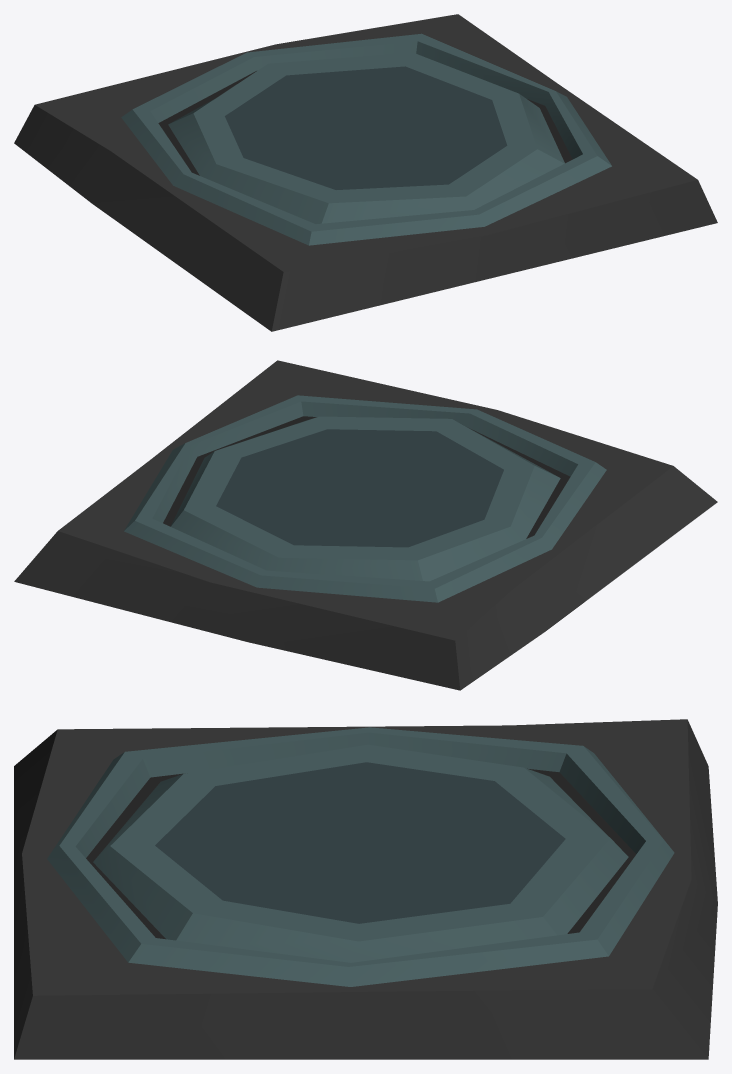
File: Pithole 2.fbx
The picture shows the model from 3 angles, top to bottom: view 1: azimuth 30°, elevation 25°; view 2: azimuth 150°, elevation 25°; view 3: azimuth 270°, elevation 25°; orthographic projection. The views are drawn at different scales.
Parts seen in each view (by area): view 1: SM_Prop_Sidewalk_Panel_03; view 2: SM_Prop_Sidewalk_Panel_03; view 3: SM_Prop_Sidewalk_Panel_03.
Boxes of the visible parts, left/top/right/bottom form: SM_Prop_Sidewalk_Panel_03: left=14, top=14, right=717, bottom=331; SM_Prop_Sidewalk_Panel_03: left=14, top=360, right=717, bottom=690; SM_Prop_Sidewalk_Panel_03: left=14, top=719, right=717, bottom=1059.
Size of the model in its own units: 306 by 34.55 by 308.
